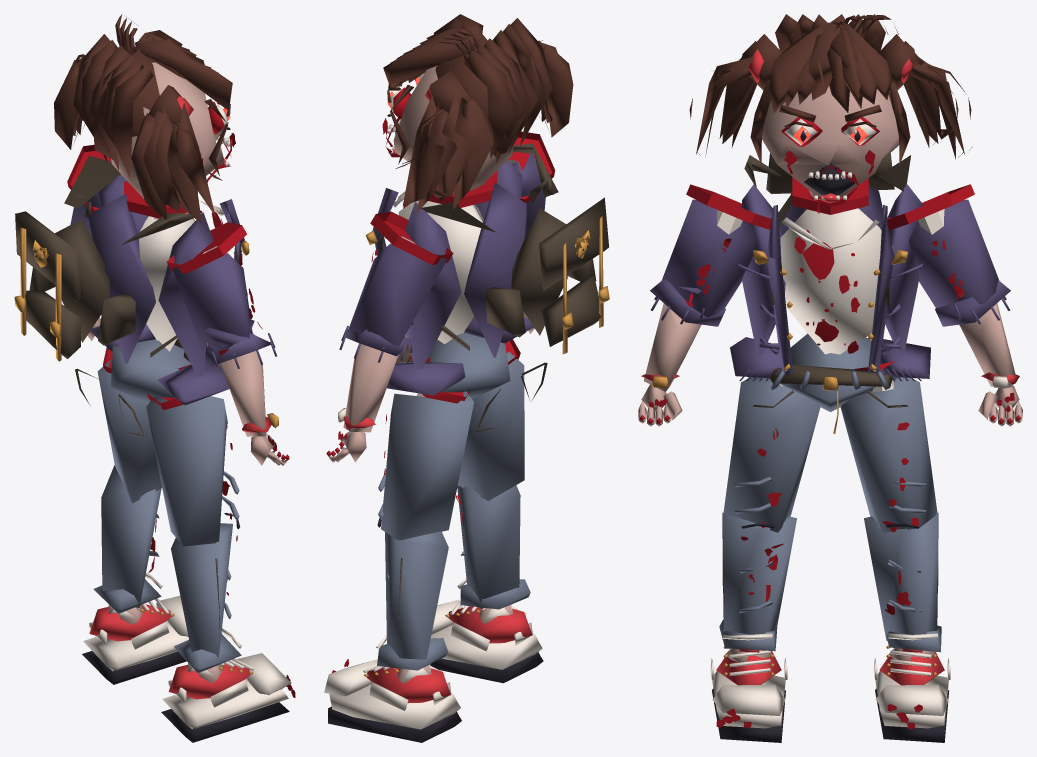
Rendered from inf.college-student.lod2.glb.
3 views of the same model, side by side, from view 1: azimuth 30°, elevation 25°; view 2: azimuth 150°, elevation 25°; view 3: azimuth 270°, elevation 25° (orthographic). The views are drawn at different scales.
Visible parts, largest first — view 1: head, torso, backpackSocket, legR, footR, footL, shinL, shinR, armR, legL, hip, foreArmR (+4 smaller); view 2: head, torso, backpackSocket, legL, footL, shinL, shinR, footR, armL, legR, hip, foreArmL (+5 smaller); view 3: head, torso, legL, legR, shinR, armR, shinL, armL, footR, footL, hip, foreArmR (+7 smaller).
Part boxes in pixels (bbox=[...]): head: bbox=[54, 14, 235, 223]; torso: bbox=[64, 156, 249, 405]; backpackSocket: bbox=[14, 192, 135, 361]; legR: bbox=[146, 396, 239, 546]; footR: bbox=[161, 653, 295, 742]; footL: bbox=[82, 595, 188, 684]; shinL: bbox=[93, 465, 162, 613]; shinR: bbox=[171, 523, 241, 673]; armR: bbox=[172, 253, 276, 368]; legL: bbox=[97, 359, 161, 503]; hip: bbox=[75, 338, 222, 436]; foreArmR: bbox=[220, 351, 278, 436]; head: bbox=[382, 14, 573, 213]; torso: bbox=[365, 143, 558, 395]; backpackSocket: bbox=[485, 177, 609, 354]; legL: bbox=[377, 391, 473, 540]; footL: bbox=[324, 659, 461, 742]; shinL: bbox=[376, 531, 448, 670]; shinR: bbox=[456, 485, 530, 609]; footR: bbox=[430, 599, 543, 683]; armL: bbox=[339, 243, 446, 362]; legR: bbox=[458, 351, 524, 500]; hip: bbox=[395, 332, 547, 431]; foreArmL: bbox=[338, 344, 398, 432]; head: bbox=[689, 14, 972, 213]; torso: bbox=[730, 155, 930, 381]; legL: bbox=[840, 377, 937, 532]; legR: bbox=[723, 377, 820, 532]; shinR: bbox=[719, 512, 796, 651]; armR: bbox=[650, 199, 756, 326]; shinL: bbox=[864, 512, 941, 652]; armL: bbox=[908, 199, 1010, 326]; footR: bbox=[710, 646, 787, 742]; footL: bbox=[873, 645, 950, 742]; hip: bbox=[753, 333, 907, 433]; foreArmR: bbox=[641, 303, 701, 391].
Bounding box in the file's own units: 0.5461 × 1.69 × 0.8615.
